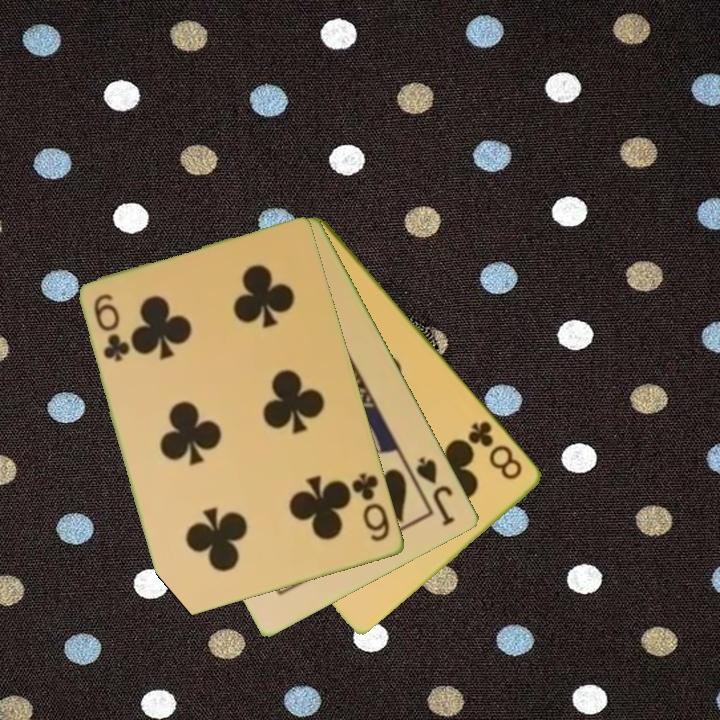6c: (348, 470, 393, 545), (90, 290, 131, 365)
8c: (465, 417, 526, 483)
Js: (413, 453, 459, 529)
